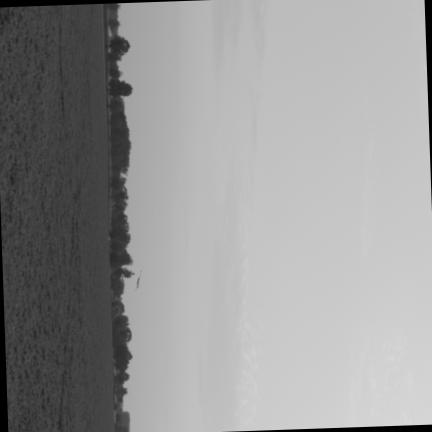Shahed: (134, 271, 141, 290)
